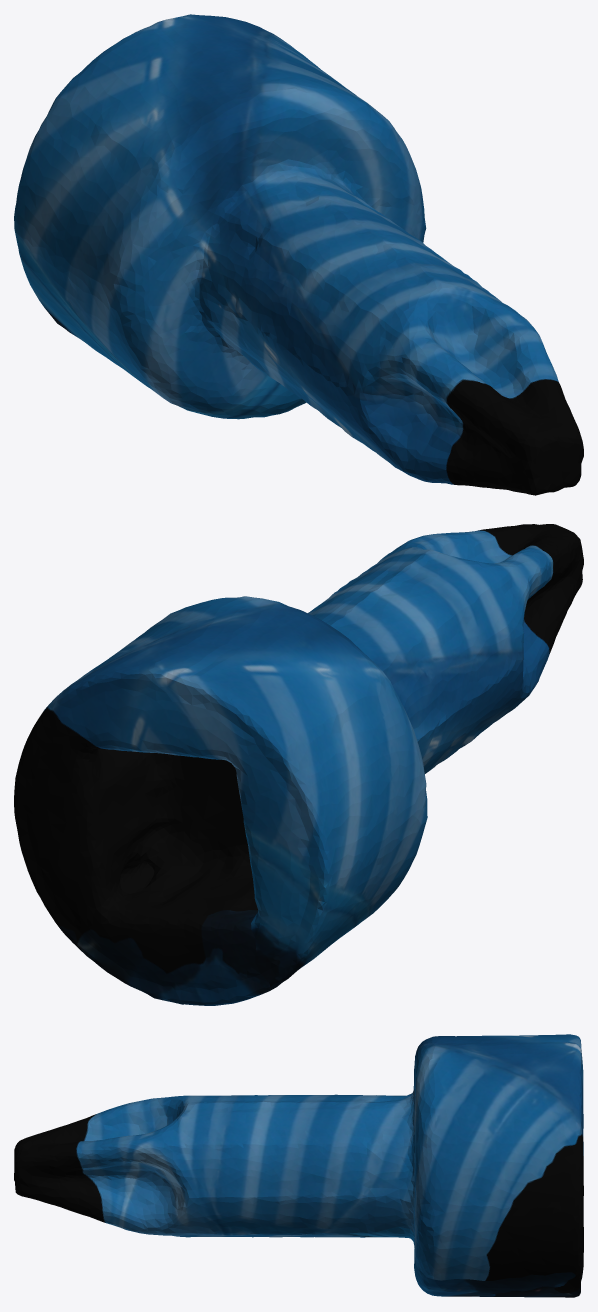
The picture shows the model from 3 angles, top to bottom: view 1: azimuth 30°, elevation 25°; view 2: azimuth 150°, elevation 25°; view 3: azimuth 270°, elevation 25°; orthographic projection. The views are drawn at different scales.
Visible parts, largest first — view 1: node; view 2: node; view 3: node.
Part boxes in pixels (x1=…): node: x1=14, y1=14, x2=583, y2=495; node: x1=14, y1=524, x2=583, y2=1005; node: x1=14, y1=1034, x2=583, y2=1297.
Bounding box in the file's own units: 0.0307 × 0.0307 × 0.0664.
